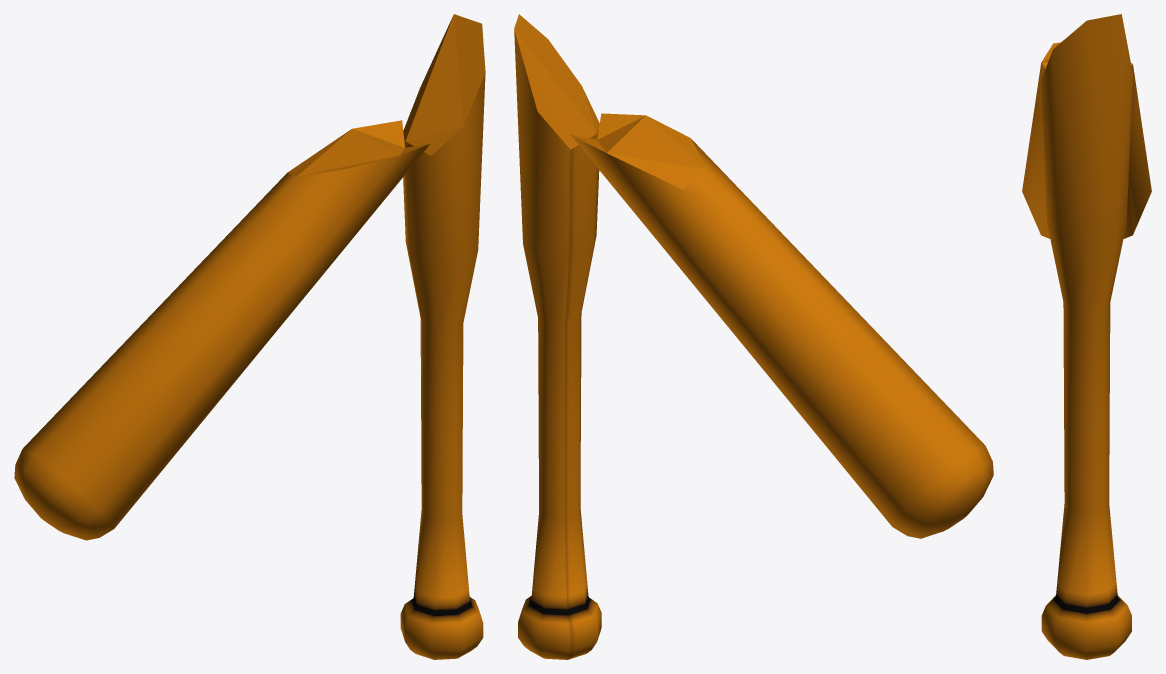
The model's file is BaseballBatBroken.fbx.
3 renders of one model, left to right at view 1: azimuth 30°, elevation 25°; view 2: azimuth 150°, elevation 25°; view 3: azimuth 270°, elevation 25°, orthographic. The views are drawn at different scales.
Visible parts, largest first — view 1: BaseballBatBroken; view 2: BaseballBatBroken; view 3: BaseballBatBroken.
Boxes of the visible parts, x1,y1,x2,y2 form: BaseballBatBroken: (14, 14, 485, 659); BaseballBatBroken: (514, 14, 993, 659); BaseballBatBroken: (1022, 14, 1151, 659).
Size of the model in its own units: 4.57 by 5.91 by 1.06.
